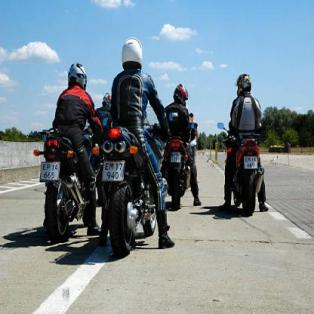Motocicleta: (98, 119, 153, 259), (32, 121, 84, 244), (226, 128, 266, 228)
